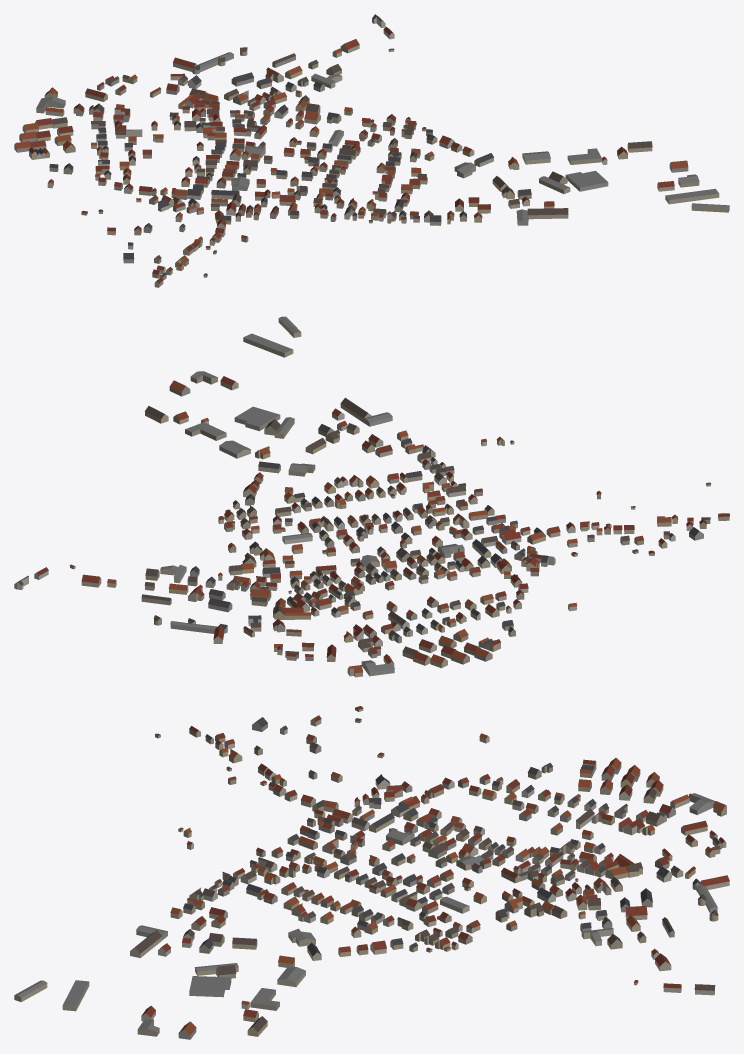
The picture shows the model from 3 angles, top to bottom: view 1: azimuth 30°, elevation 25°; view 2: azimuth 150°, elevation 25°; view 3: azimuth 270°, elevation 25°; orthographic projection. The views are drawn at different scales.
Visible parts, largest first — view 1: buildings; view 2: buildings; view 3: buildings.
Part boxes in pixels (left/top/right/bottom): buildings: left=14, top=14, right=729, bottom=287; buildings: left=14, top=316, right=729, bottom=677; buildings: left=14, top=706, right=729, bottom=1039.
Bounding box in the file's own units: 816 × 47.13 × 822.
